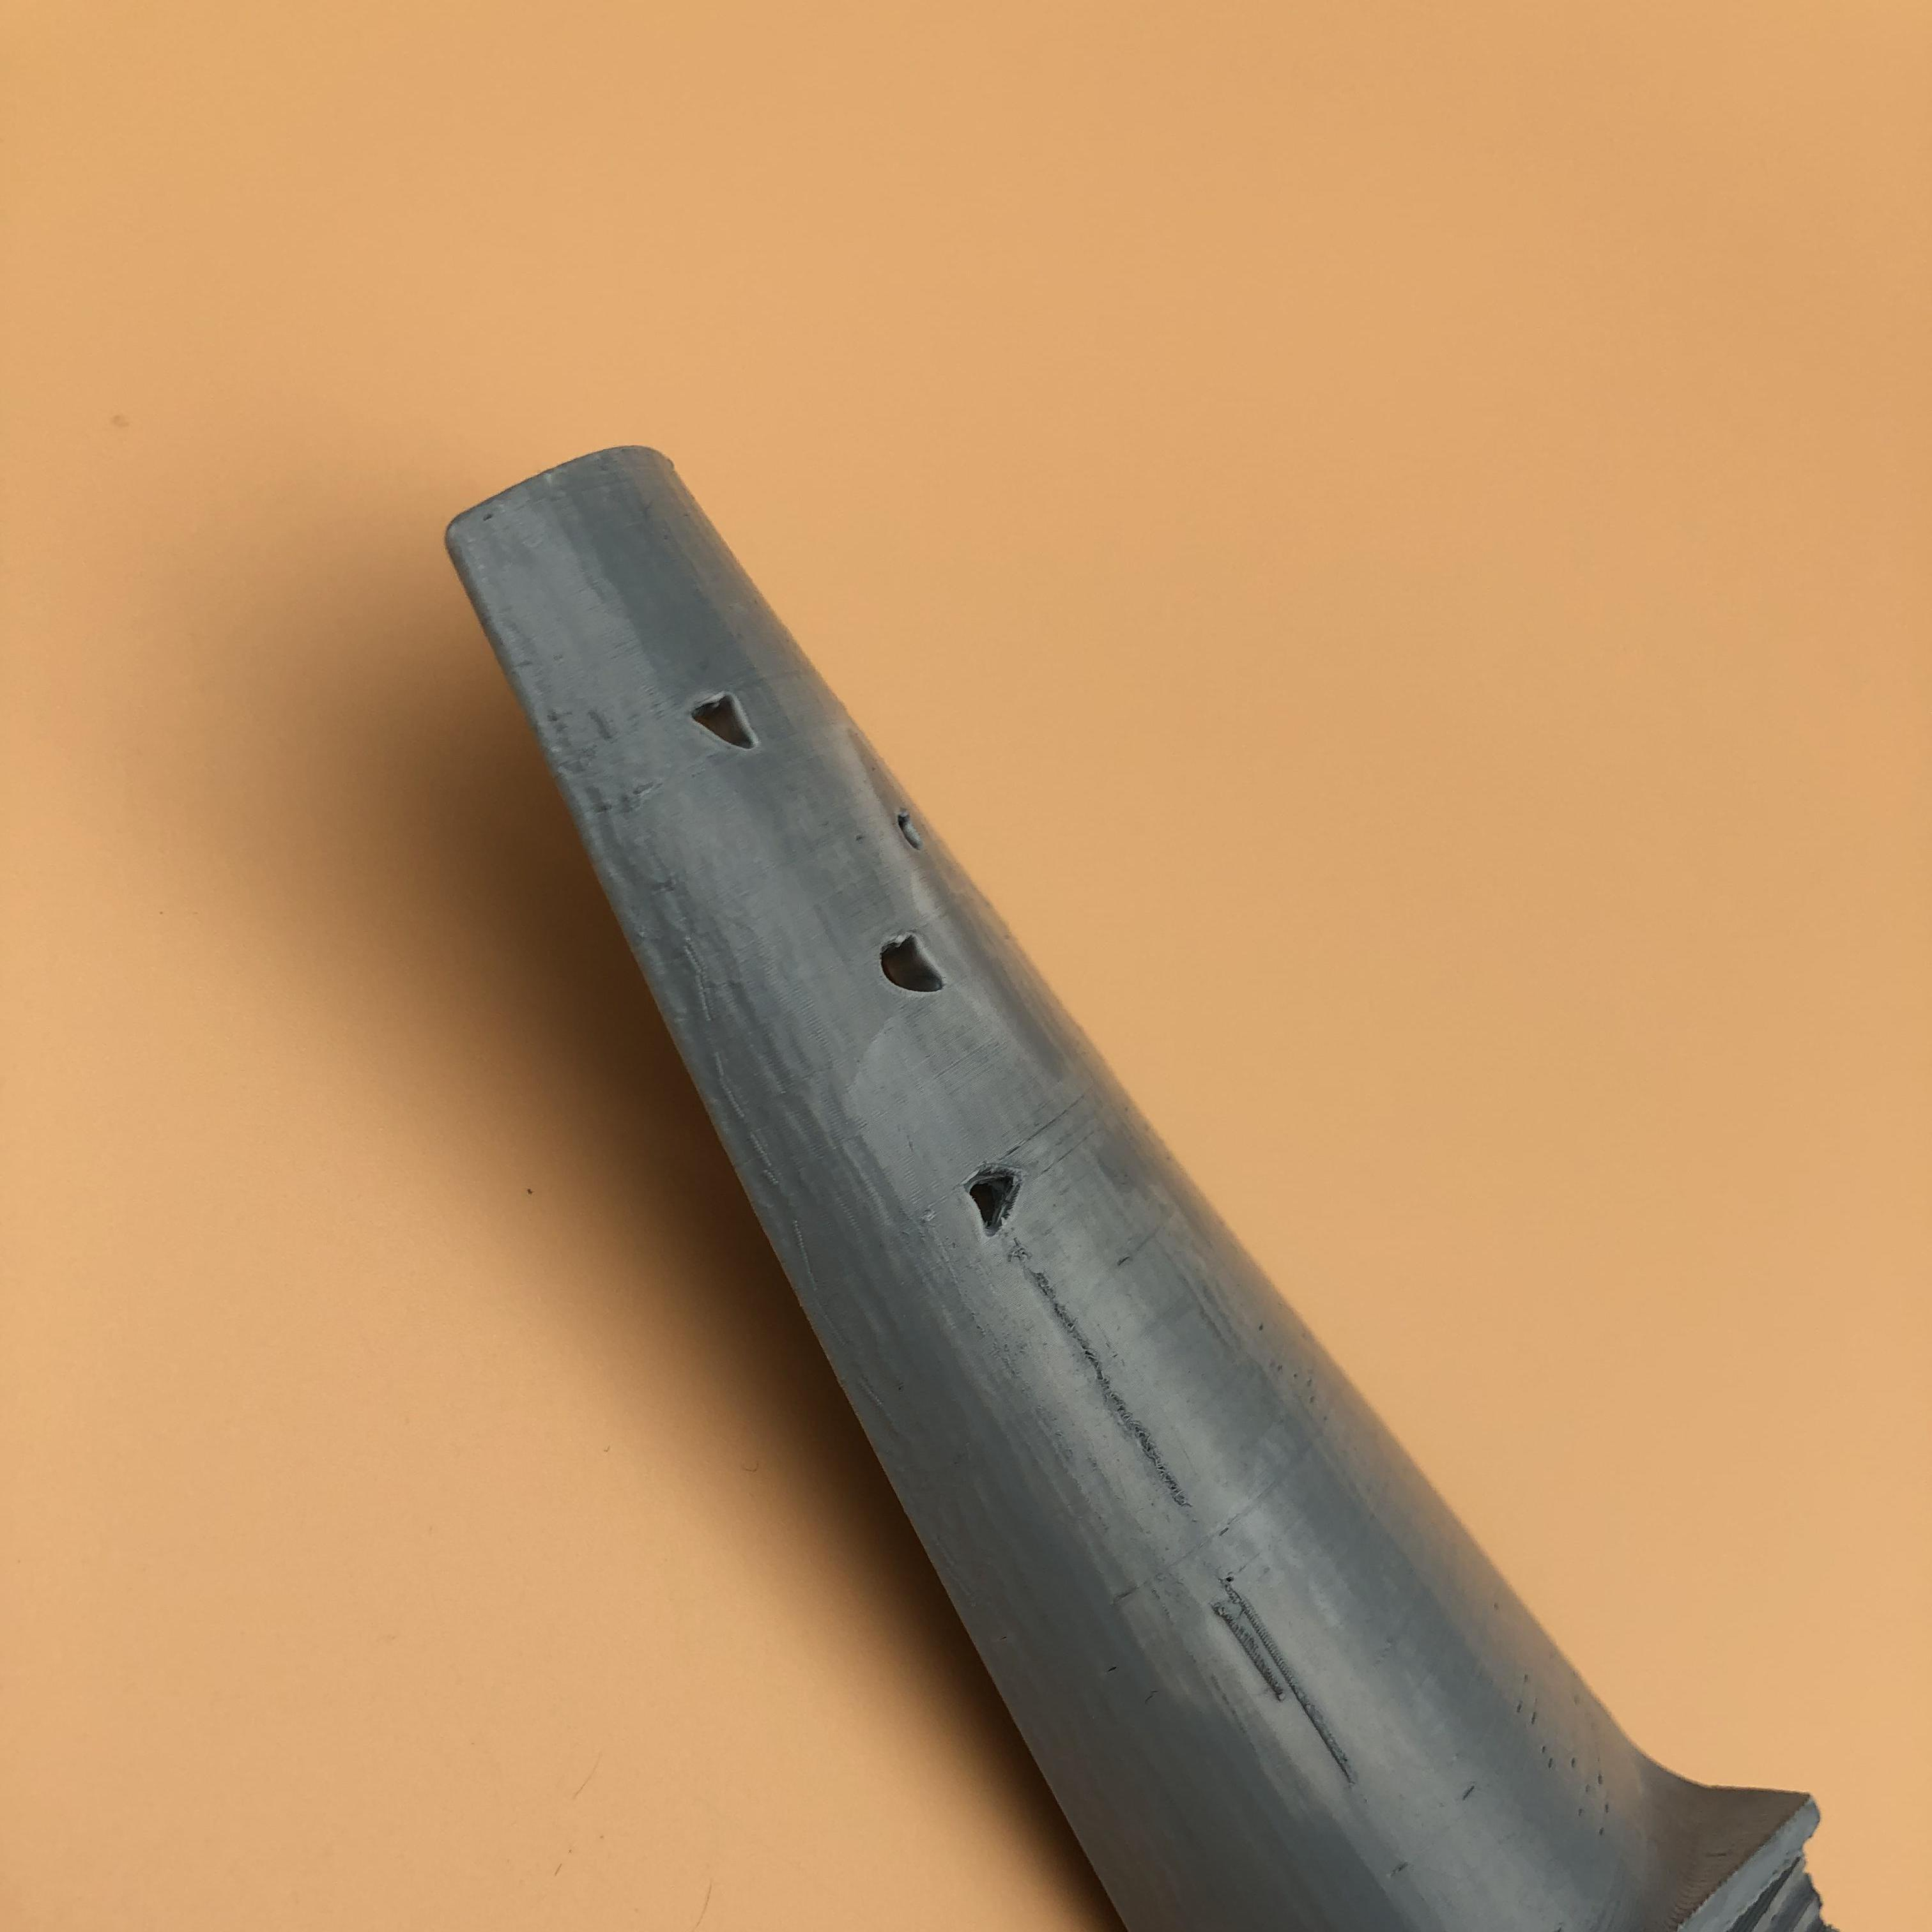breakdown: (669, 669, 771, 764), (968, 1154, 1044, 1246), (872, 934, 955, 1005), (888, 793, 938, 856)
